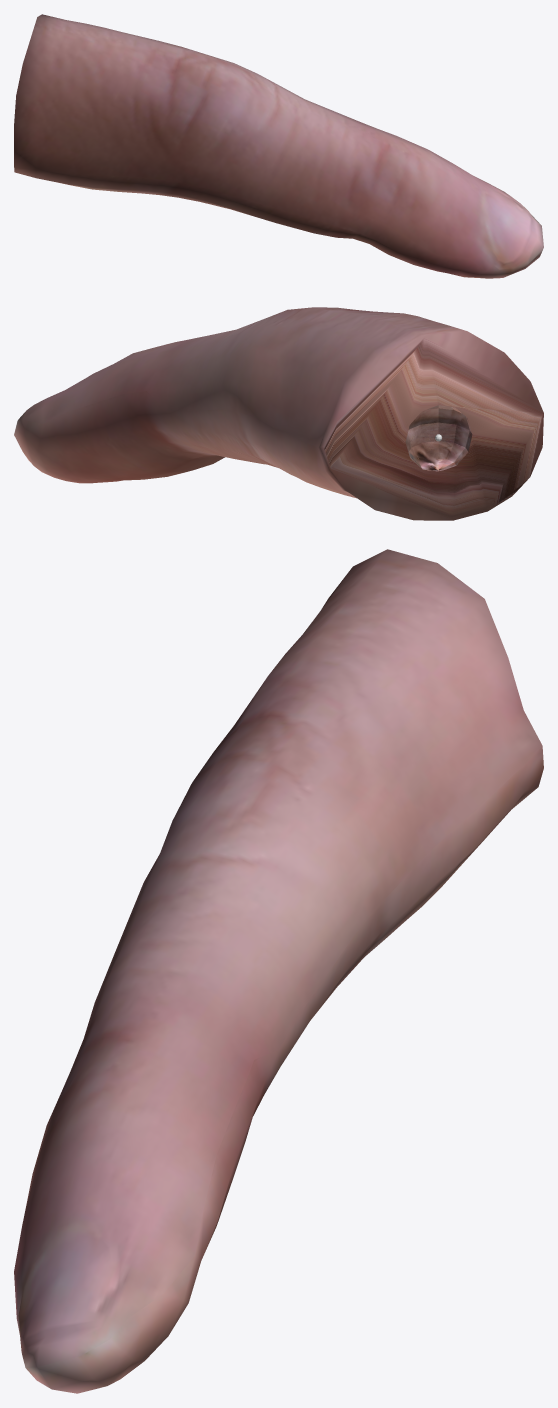
The picture shows the model from 3 angles, top to bottom: view 1: azimuth 30°, elevation 25°; view 2: azimuth 150°, elevation 25°; view 3: azimuth 270°, elevation 25°; orthographic projection. The views are drawn at different scales.
Visible parts, largest first — view 1: finger5; view 2: finger5; view 3: finger5.
Part boxes in pixels (box(x1,y1,x2,y2)): finger5: box(14, 14, 543, 278); finger5: box(14, 307, 543, 520); finger5: box(14, 549, 543, 1393).
Bounding box in the file's own units: 2.15 × 1.2 × 1.16.
1 material, 1 textured.
